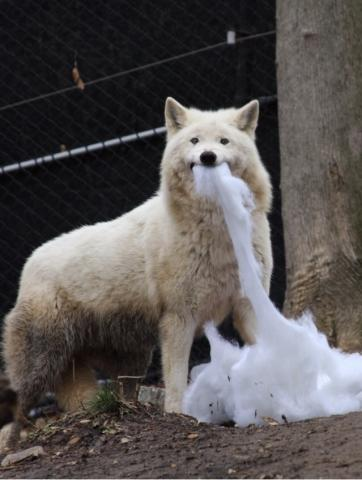Wolf: (3, 95, 274, 452)
